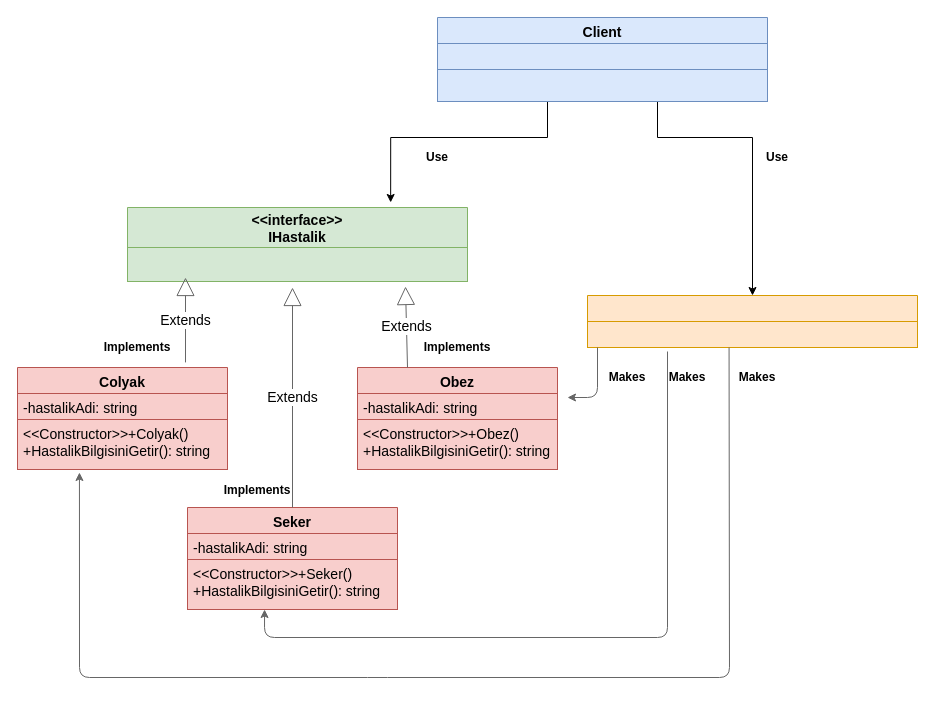
Image size: 935x703. Some labels were removed from this diagram. The shapes that lost their labels are listed below. From the top down, each one's box as (x1, y1, x2, y2) in pixels, then its label:
(436, 42, 768, 70): +hastalik: IHastalik
(436, 68, 768, 102): +HastalikNesnesiniOlustur(string): IHastalik
(126, 246, 468, 282): + HastalikBilgisiniGetir(): string
(586, 294, 918, 348): HastalikFabrikasi
(586, 320, 918, 348): + HastalikNesnesiniOlustur(string): IHastalik
